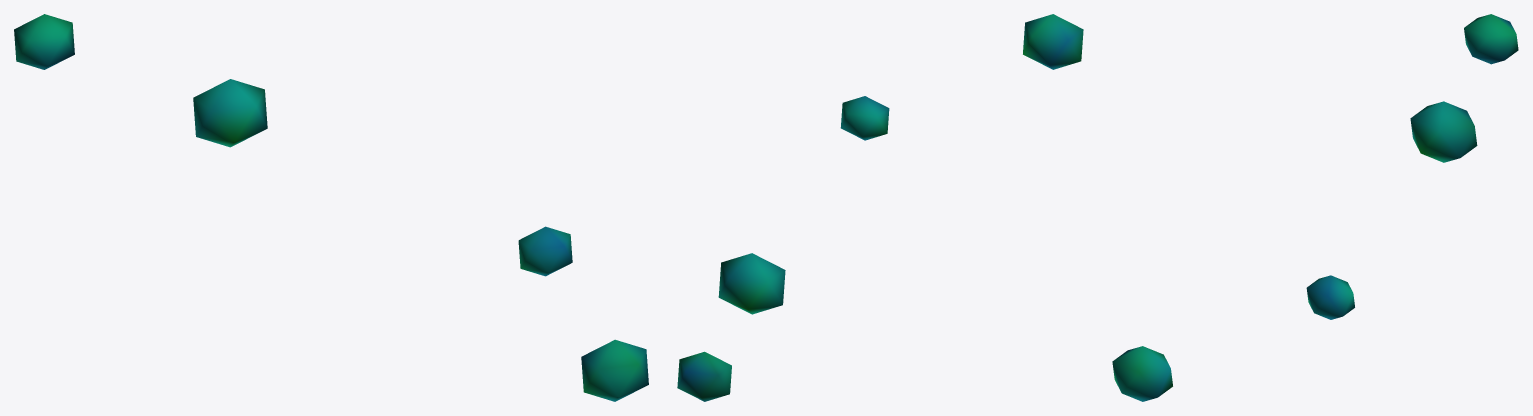
File: RiverRocks_A.fbx
The picture shows the model from 3 angles, left to right: view 1: azimuth 30°, elevation 25°; view 2: azimuth 150°, elevation 25°; view 3: azimuth 330°, elevation 25°; orthographic projection. The views are drawn at different scales.
Parts seen in each view (by area): view 1: RiverRocks_A; view 2: RiverRocks_A; view 3: RiverRocks_A.
Boxes of the visible parts, x1,y1,x2,y2 form: RiverRocks_A: (14,14,648,401); RiverRocks_A: (677,14,1083,401); RiverRocks_A: (1112,14,1518,401).
Size of the model in its own units: 0.6121 by 0.187 by 2.5.
